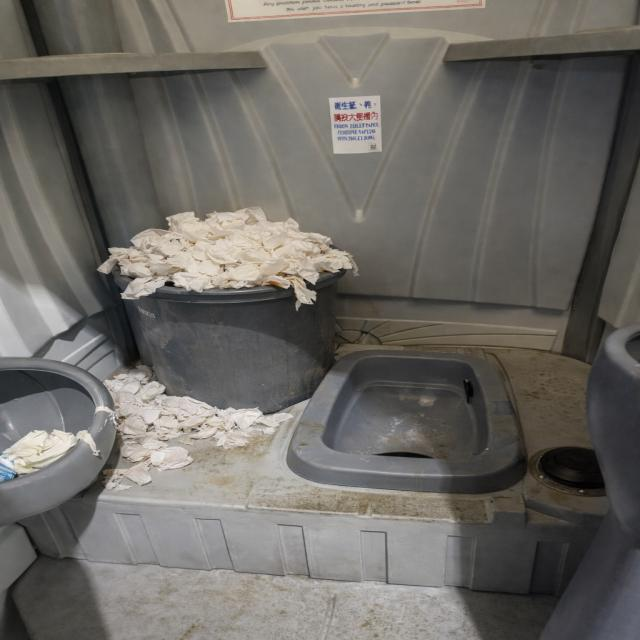dirty_area: (25, 566, 564, 624), (228, 493, 528, 530), (383, 388, 463, 451), (284, 414, 340, 466)
garbage: (2, 422, 95, 506)
overflow_bin: (102, 202, 360, 498)
